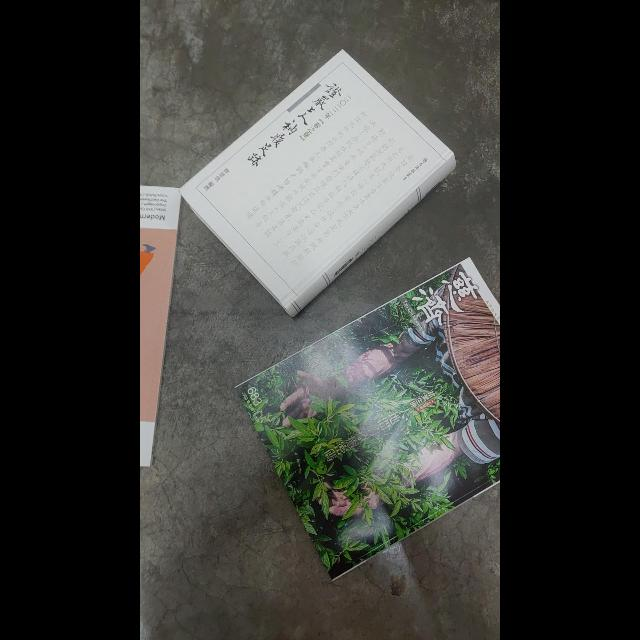papel: (232, 262, 500, 576), (181, 48, 455, 318), (140, 182, 186, 466)
